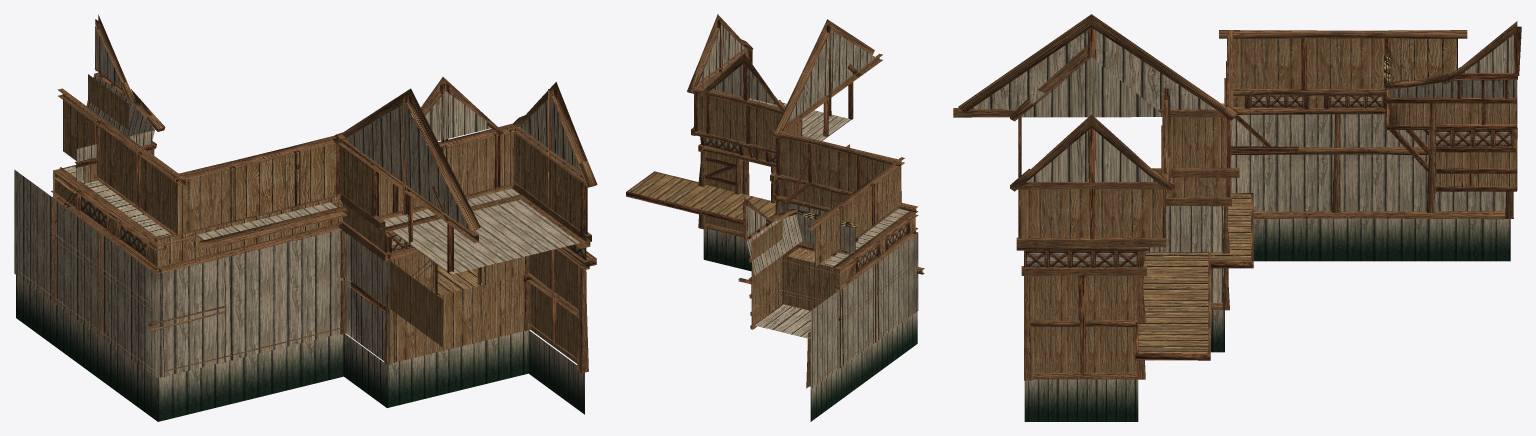
File: LAKETOWN_EXTERIOR_PS_LT_WAREHOUSE1__GX.fbx
The picture shows the model from 3 angles, left to right: view 1: azimuth 30°, elevation 25°; view 2: azimuth 150°, elevation 25°; view 3: azimuth 270°, elevation 25°; orthographic projection. The views are drawn at different scales.
Parts seen in each view (by area): view 1: LAKETOWN_EXTERIOR_PS_LT_WAREHOUSE1__GX; view 2: LAKETOWN_EXTERIOR_PS_LT_WAREHOUSE1__GX; view 3: LAKETOWN_EXTERIOR_PS_LT_WAREHOUSE1__GX.
Boxes of the visible parts, x1,y1,x2,y2 form: LAKETOWN_EXTERIOR_PS_LT_WAREHOUSE1__GX: [14, 14, 597, 421]; LAKETOWN_EXTERIOR_PS_LT_WAREHOUSE1__GX: [626, 14, 924, 421]; LAKETOWN_EXTERIOR_PS_LT_WAREHOUSE1__GX: [953, 14, 1521, 421].
Size of the model in its own units: 233314 by 186747 by 284038.
13 materials, 13 textured.
